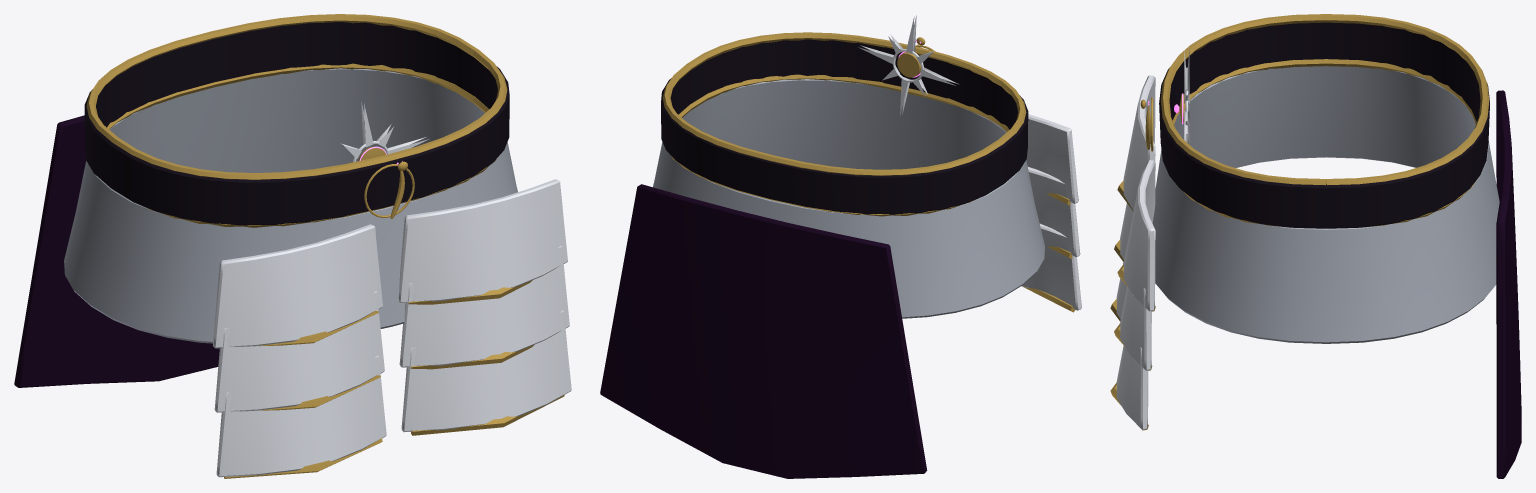
File: esc_unmaker_vanguard_inner.glb
3 renders of one model, left to right at view 1: azimuth 30°, elevation 25°; view 2: azimuth 150°, elevation 25°; view 3: azimuth 270°, elevation 25°, orthographic. The views are drawn at different scales.
Parts seen in each view (by area): view 1: esc_unmaker_vanguard_inner, AT_thigh_L, AT_thigh_R; view 2: esc_unmaker_vanguard_inner, AT_thigh_R; view 3: esc_unmaker_vanguard_inner, AT_thigh_L, AT_thigh_R.
Part boxes in pixels (bbox=[...]): esc_unmaker_vanguard_inner: bbox=[14, 14, 517, 387]; AT_thigh_L: bbox=[398, 179, 571, 435]; AT_thigh_R: bbox=[213, 224, 386, 478]; esc_unmaker_vanguard_inner: bbox=[600, 15, 1044, 478]; AT_thigh_R: bbox=[1021, 114, 1081, 312]; esc_unmaker_vanguard_inner: bbox=[1140, 14, 1521, 478]; AT_thigh_L: bbox=[1110, 160, 1155, 430]; AT_thigh_R: bbox=[1110, 75, 1155, 321].
Bounding box in the file's own units: 0.5145 × 0.4756 × 0.4717.
